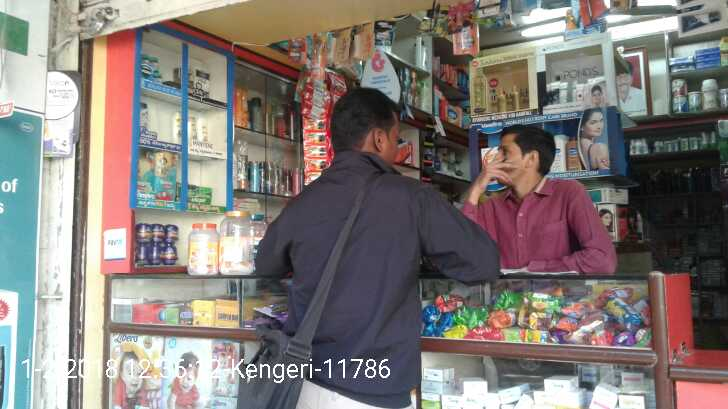beauty: (150, 148, 177, 201), (193, 66, 212, 98), (170, 111, 182, 145), (197, 114, 209, 147), (185, 115, 197, 146)
pharmacy: (135, 154, 155, 201), (183, 185, 212, 205), (150, 56, 161, 75), (139, 54, 150, 71)
